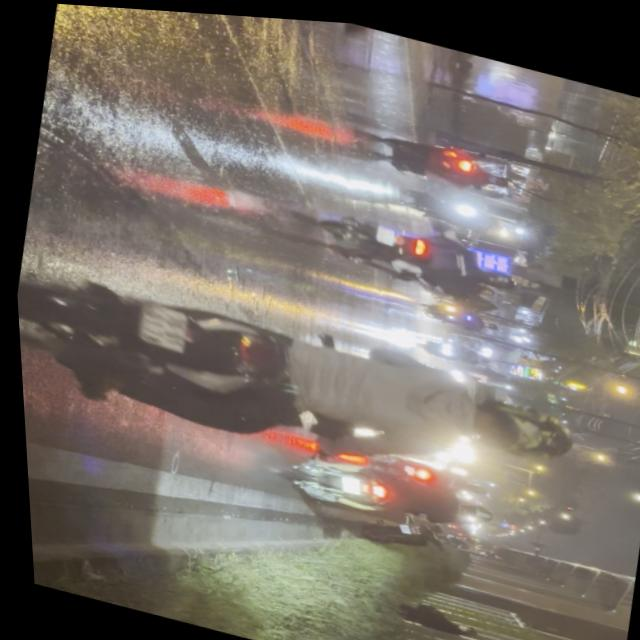helmet: (456, 381, 579, 467)
licenseplate: (11, 244, 594, 523)
nohelmet: (134, 298, 189, 351)
